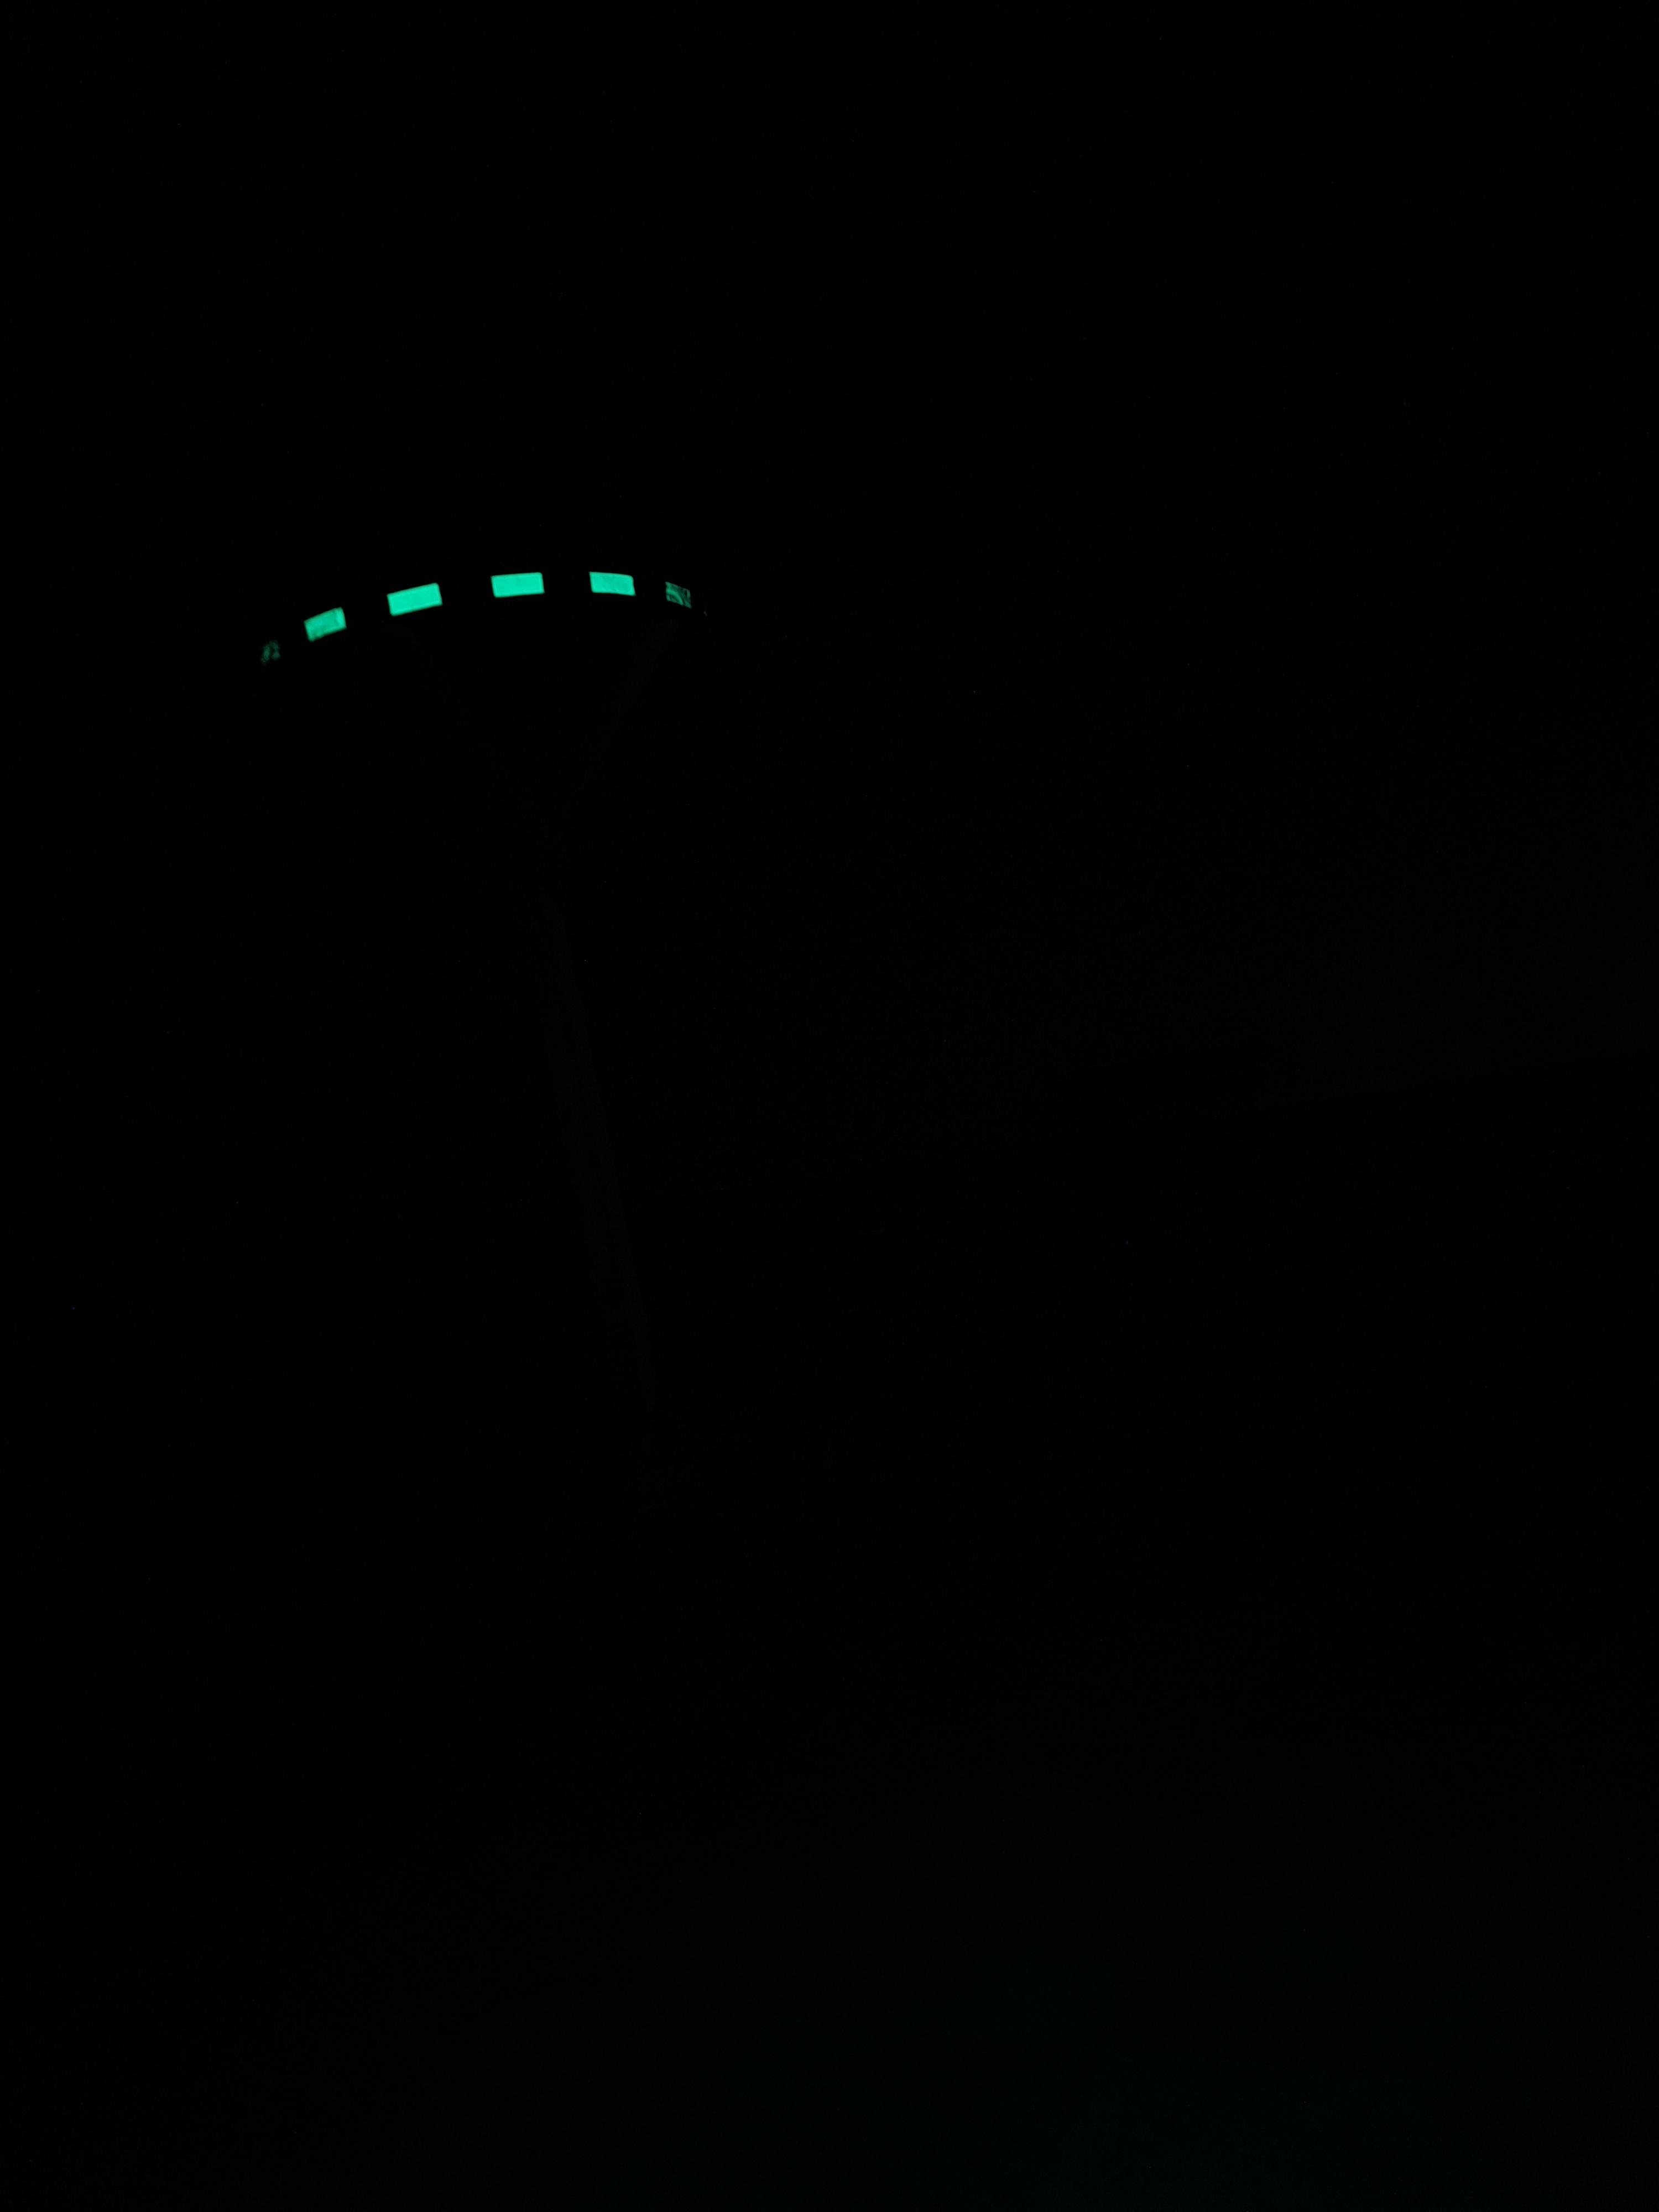hoop: (260, 570, 690, 665)
